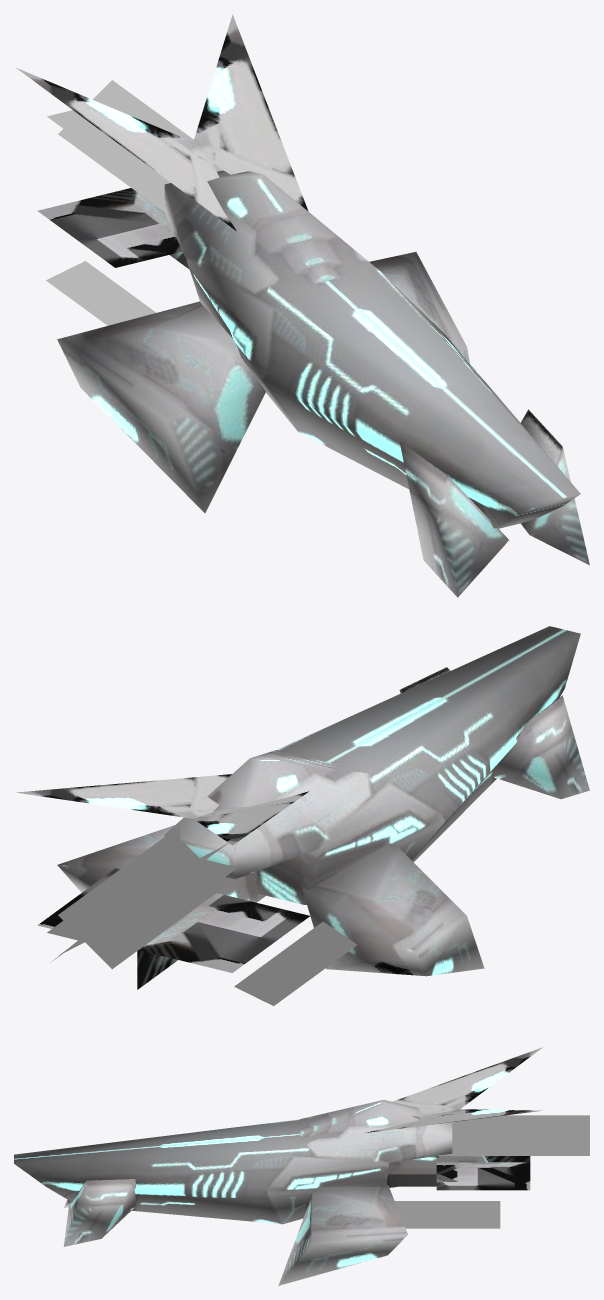
3 views of the same model, one above another, from view 1: azimuth 30°, elevation 25°; view 2: azimuth 150°, elevation 25°; view 3: azimuth 270°, elevation 25° (orthographic). The views are drawn at different scales.
Visible parts, largest first — view 1: space-unit-lancer-lod2; view 2: space-unit-lancer-lod2; view 3: space-unit-lancer-lod2.
Boxes of the visible parts, x1,y1,x2,y2 form: space-unit-lancer-lod2: [16, 14, 589, 597]; space-unit-lancer-lod2: [15, 626, 589, 1005]; space-unit-lancer-lod2: [14, 1047, 589, 1285].
Bounding box in the file's own units: 58.39 × 43.05 × 135.
2 materials, 1 textured.
